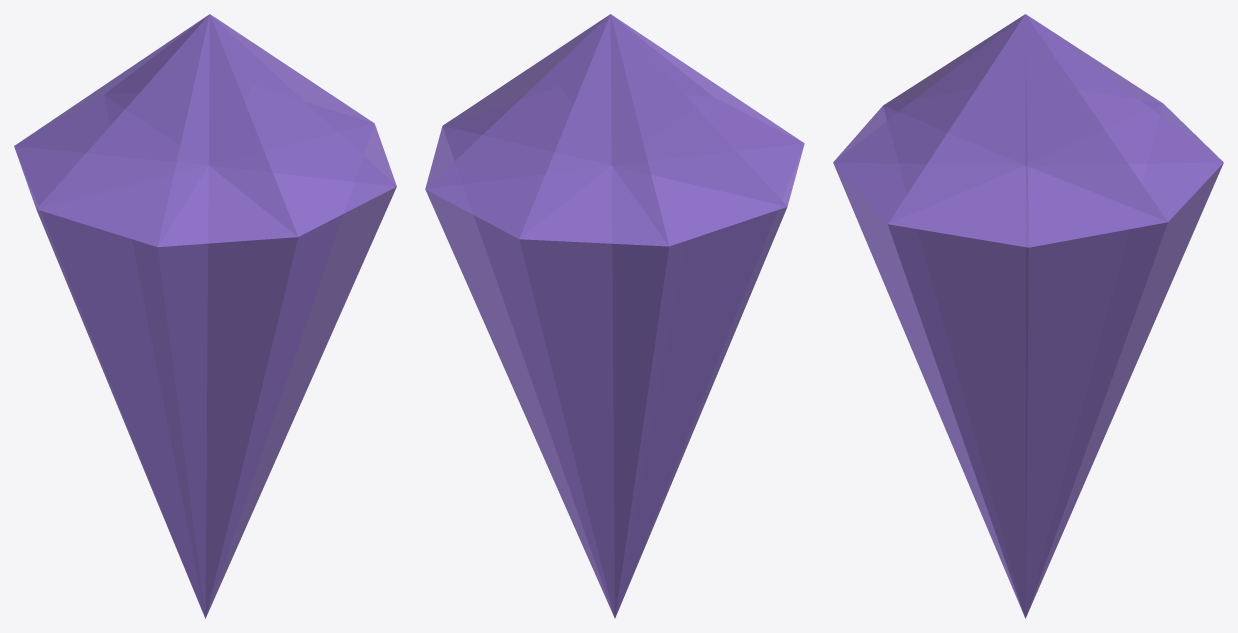
The model's file is Gem_New_09.fbx.
The picture shows the model from 3 angles, left to right: view 1: azimuth 30°, elevation 25°; view 2: azimuth 150°, elevation 25°; view 3: azimuth 270°, elevation 25°; orthographic projection.
Parts seen in each view (by area): view 1: Model; view 2: Model; view 3: Model.
Boxes of the visible parts, x1,y1,x2,y2 form: Model: (14, 14, 396, 618); Model: (425, 14, 804, 618); Model: (833, 14, 1223, 618).
Size of the model in its own units: 216 by 365 by 213.
